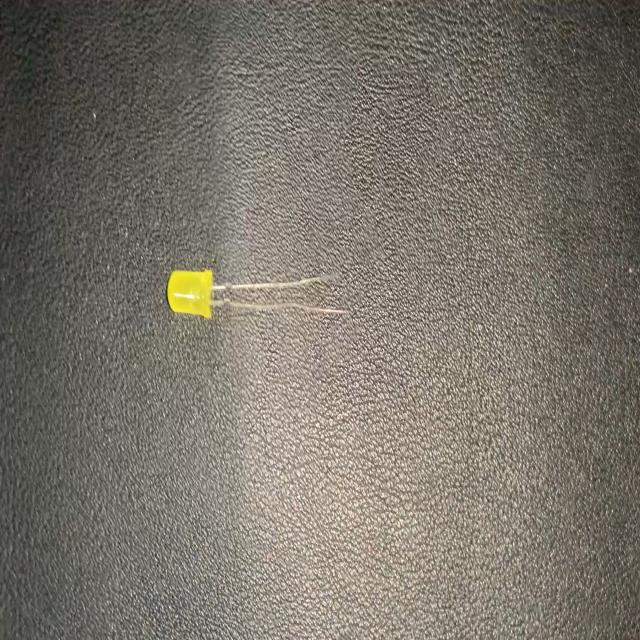LED: (164, 261, 351, 318)
